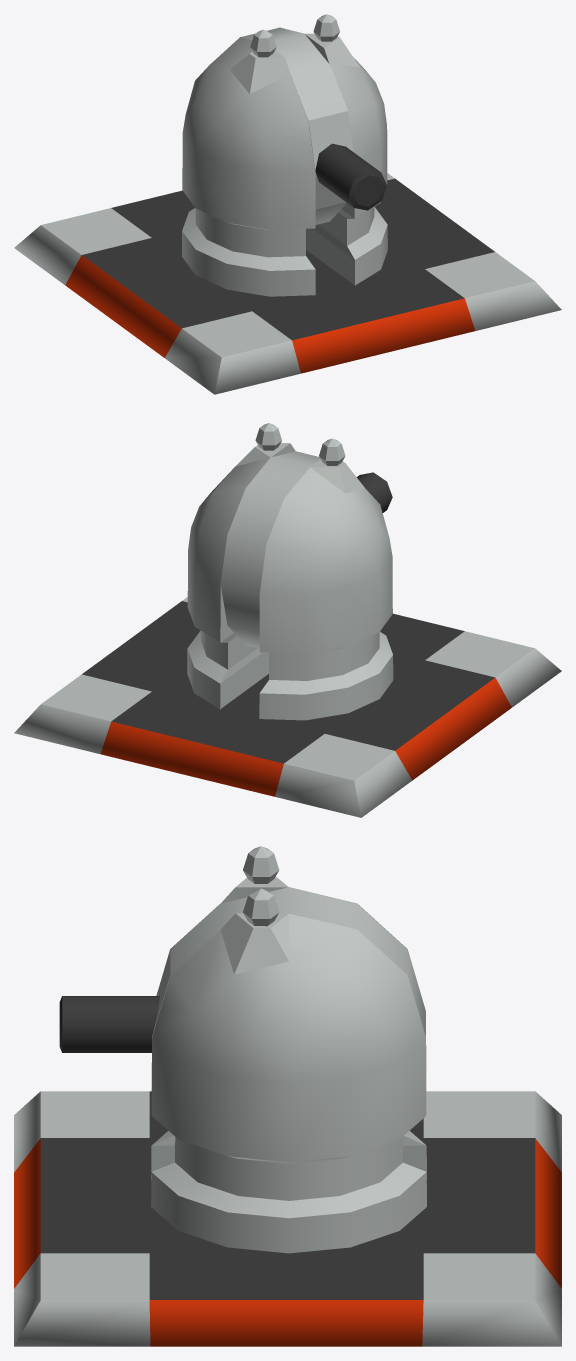
File: Cannon tower.fbx
3 views of the same model, one above another, from view 1: azimuth 30°, elevation 25°; view 2: azimuth 150°, elevation 25°; view 3: azimuth 270°, elevation 25° (orthographic). The views are drawn at different scales.
Parts seen in each view (by area): view 1: Cannon tower; view 2: Cannon tower; view 3: Cannon tower.
Boxes of the visible parts, left/top/right/bottom form: Cannon tower: left=14, top=14, right=561, bottom=394; Cannon tower: left=14, top=423, right=561, bottom=817; Cannon tower: left=14, top=846, right=561, bottom=1346.
Size of the model in its own units: 400 by 291 by 400.
